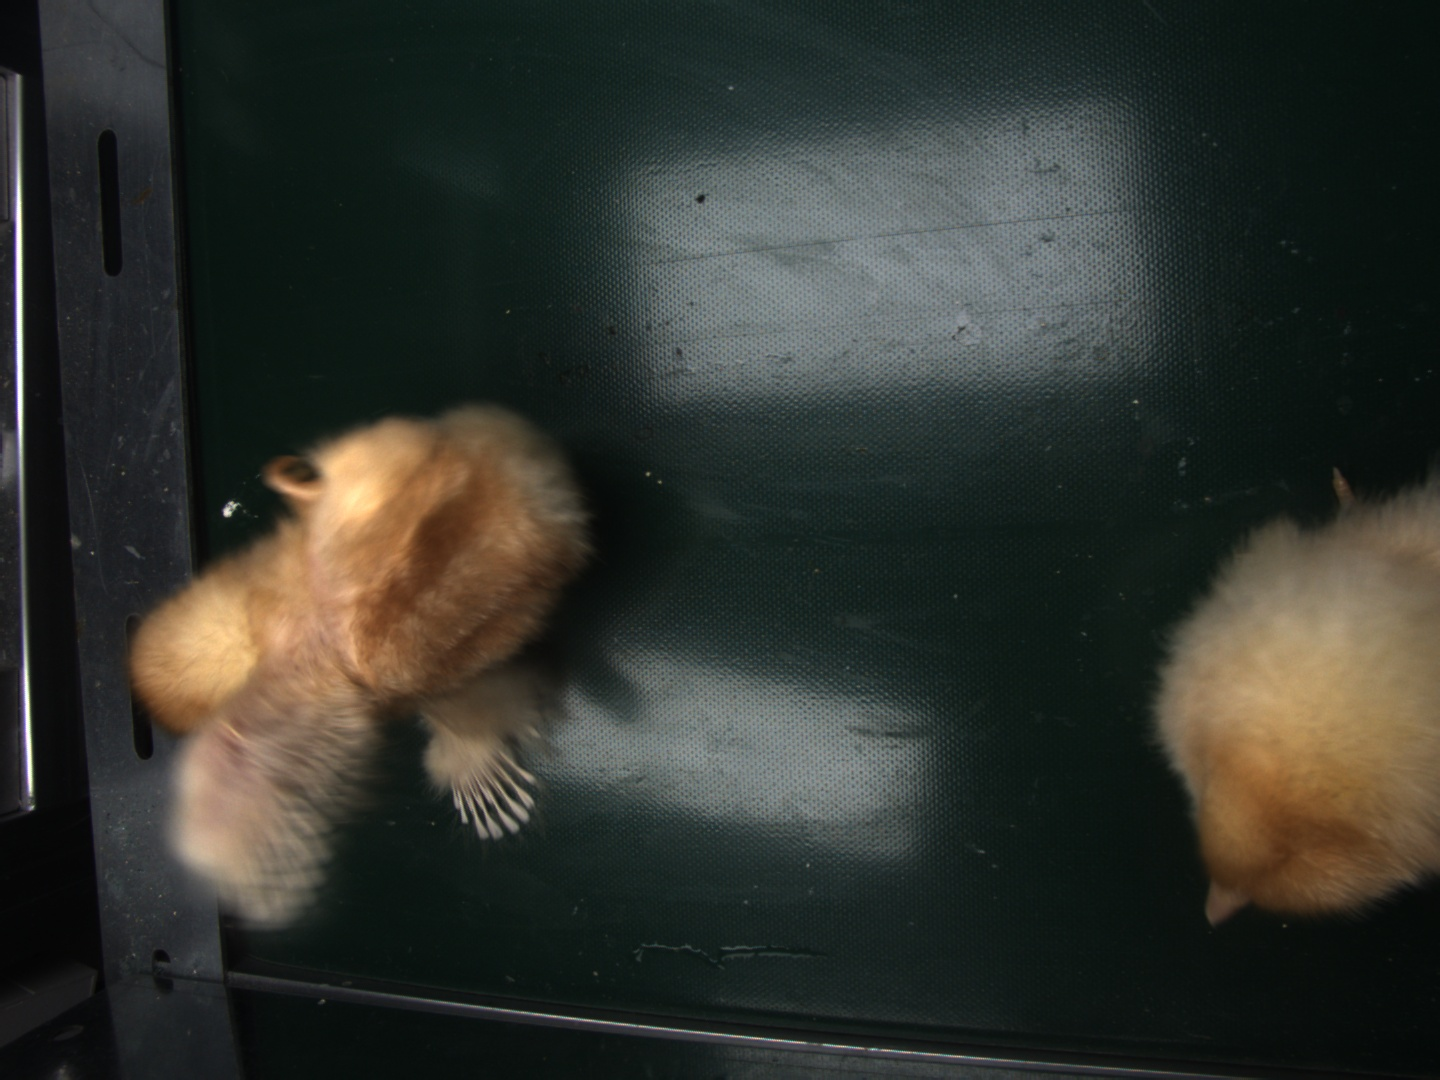female: (451, 750, 535, 836)
